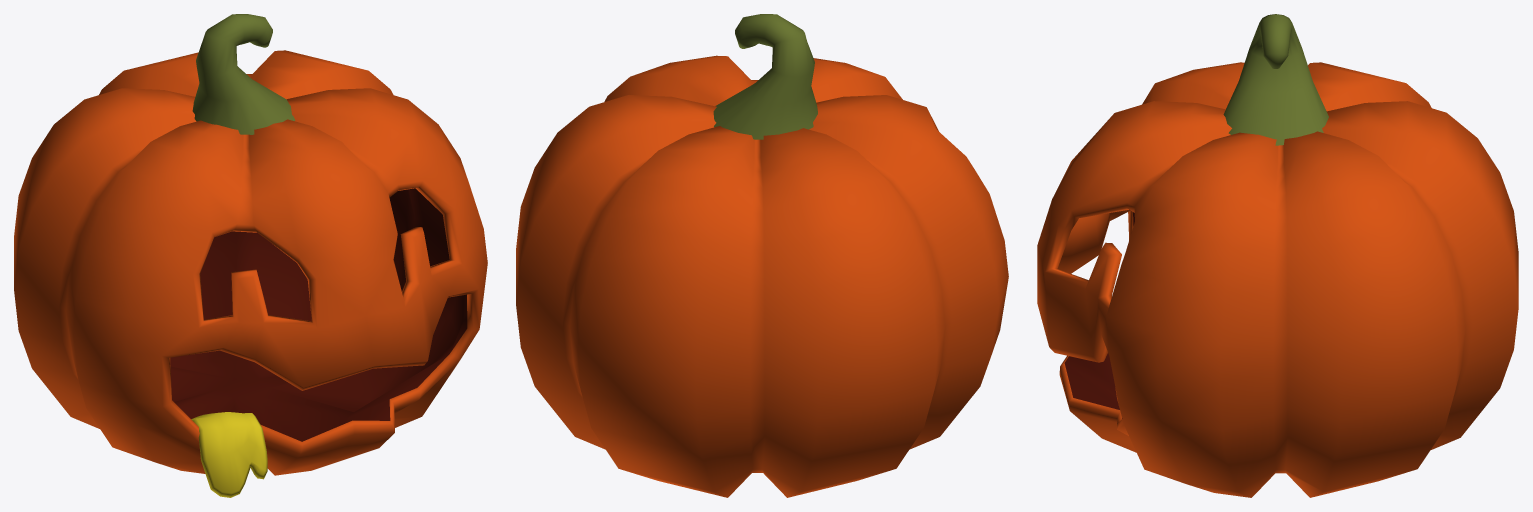
File: pumpkin_4.fbx
3 views of the same model, side by side, from view 1: azimuth 30°, elevation 25°; view 2: azimuth 150°, elevation 25°; view 3: azimuth 270°, elevation 25° (orthographic). The views are drawn at different scales.
Parts seen in each view (by area): view 1: Sphere.002; view 2: Sphere.002; view 3: Sphere.002.
Part boxes in pixels (x1,y1,x2,y2): Sphere.002: (14, 14, 487, 497); Sphere.002: (516, 14, 1008, 497); Sphere.002: (1037, 14, 1518, 497).
Bounding box in the file's own units: 105 × 103 × 106.
